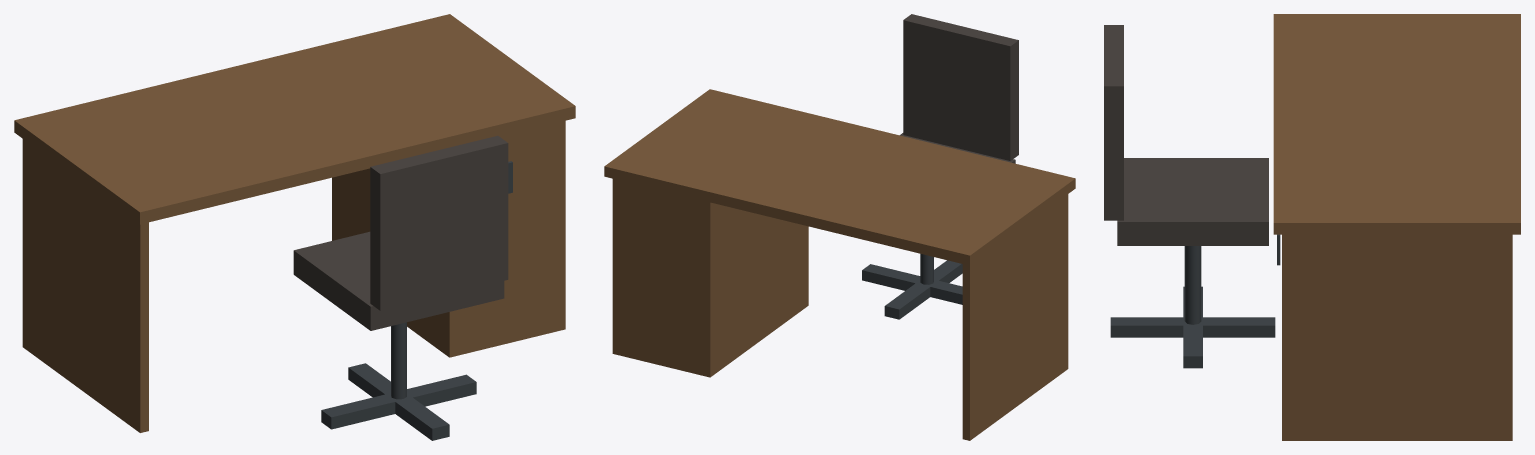
File: desk-1980s.glb
3 views of the same model, side by side, from view 1: azimuth 30°, elevation 25°; view 2: azimuth 150°, elevation 25°; view 3: azimuth 270°, elevation 25° (orthographic). The views are drawn at different scales.
Parts seen in each view (by area): view 1: kit-desk; view 2: kit-desk; view 3: kit-desk.
Boxes of the visible parts, x1,y1,x2,y2 form: kit-desk: (14,14,575,440); kit-desk: (604,14,1075,440); kit-desk: (1104,14,1520,440).
Bounding box in the file's own units: 1.5 × 0.95 × 1.27.
